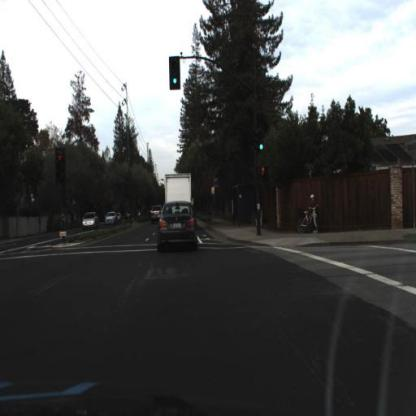car: (156, 200, 201, 254), (150, 203, 164, 227), (83, 212, 98, 230), (106, 211, 118, 227)
pedestrian: (308, 195, 320, 234)
trafficLight-Green: (169, 55, 182, 93), (256, 132, 266, 156)
trafficLight-RedLeft: (54, 145, 68, 190), (56, 148, 68, 183)
truck: (164, 174, 195, 225)
